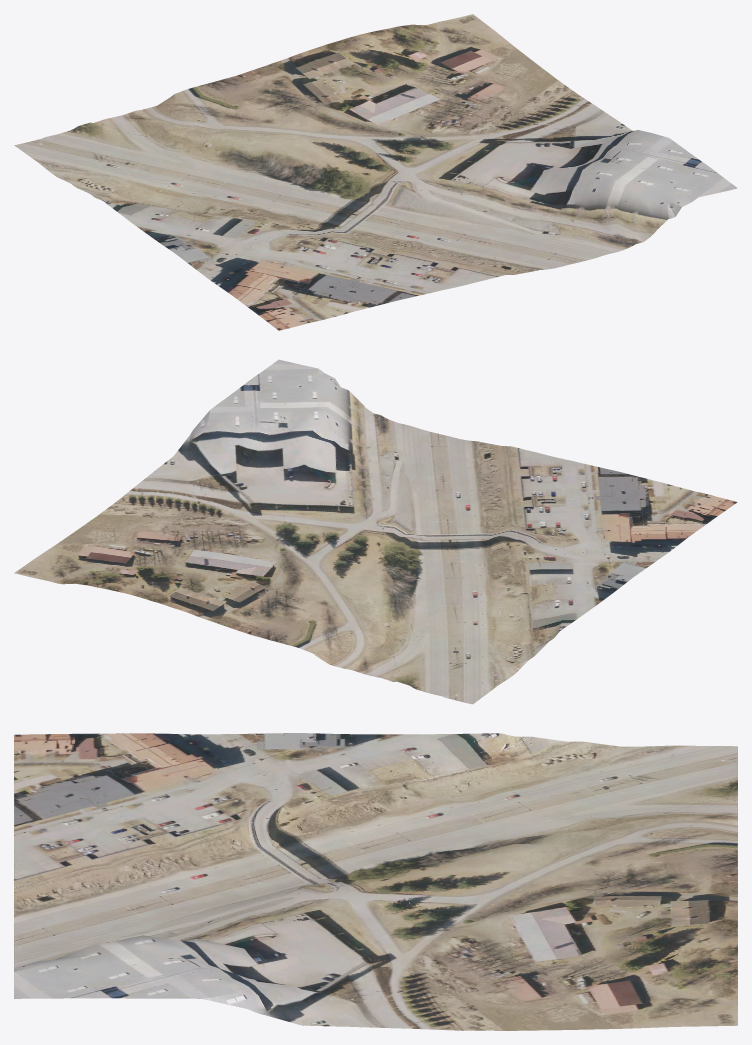
File: CM_Terrain_24491073_6818565.fbx
The picture shows the model from 3 angles, top to bottom: view 1: azimuth 30°, elevation 25°; view 2: azimuth 150°, elevation 25°; view 3: azimuth 270°, elevation 25°; orthographic projection. The views are drawn at different scales.
Visible parts, largest first — view 1: CM_Terrain_24491073_6818565_LOD0; view 2: CM_Terrain_24491073_6818565_LOD0; view 3: CM_Terrain_24491073_6818565_LOD0.
Boxes of the visible parts, left/top/right/bottom form: CM_Terrain_24491073_6818565_LOD0: left=14, top=14, right=737, bottom=330; CM_Terrain_24491073_6818565_LOD0: left=14, top=359, right=737, bottom=704; CM_Terrain_24491073_6818565_LOD0: left=14, top=733, right=737, bottom=1030.
Size of what is drawn, in the model's own units: 205 by 18.07 by 205.
